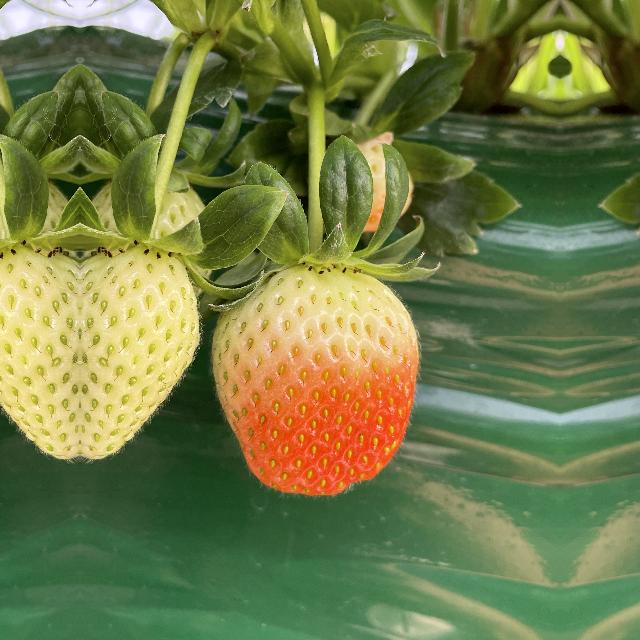Health_25: (81, 213, 200, 481), (0, 213, 78, 481)
Health_75: (196, 256, 427, 498)
